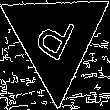P_SW: (31, 7, 81, 69)
